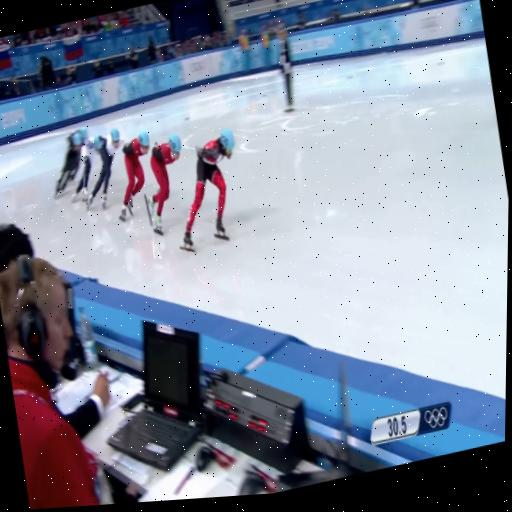Skater: (181, 130, 234, 251), (147, 135, 181, 234), (87, 128, 121, 209), (120, 131, 150, 221), (55, 127, 87, 196), (74, 129, 97, 200)
